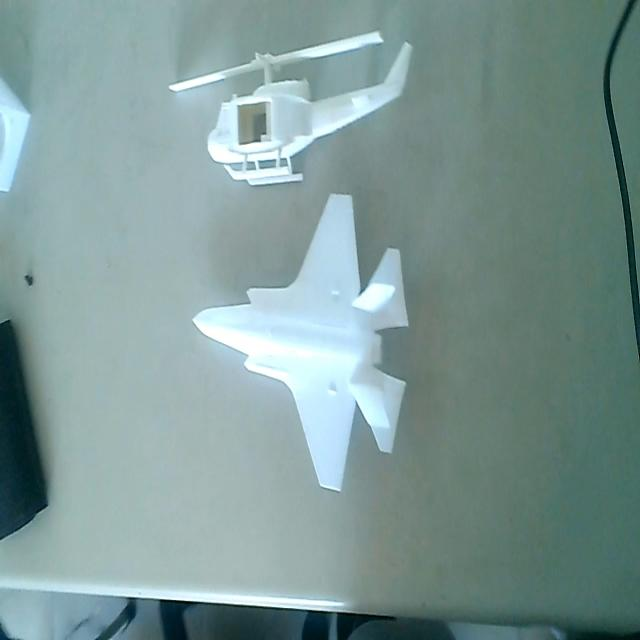Helicopter: (170, 34, 414, 186)
Jet: (188, 191, 408, 501)
